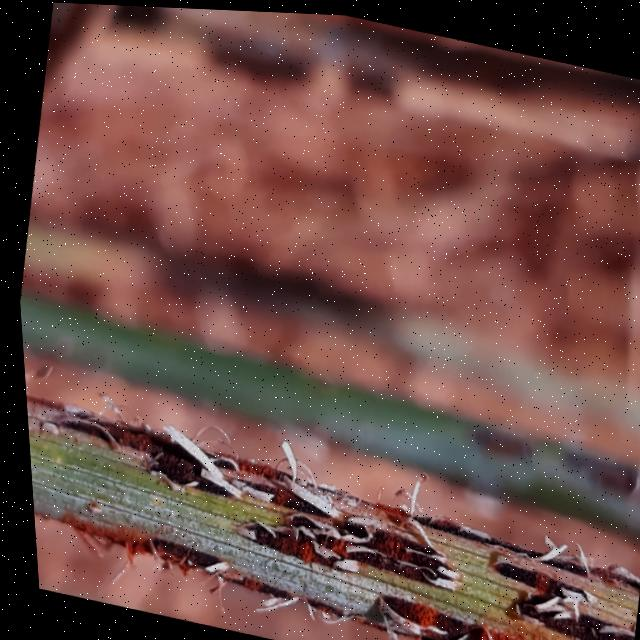black_stem_rust: (18, 350, 640, 640), (357, 377, 640, 542)
